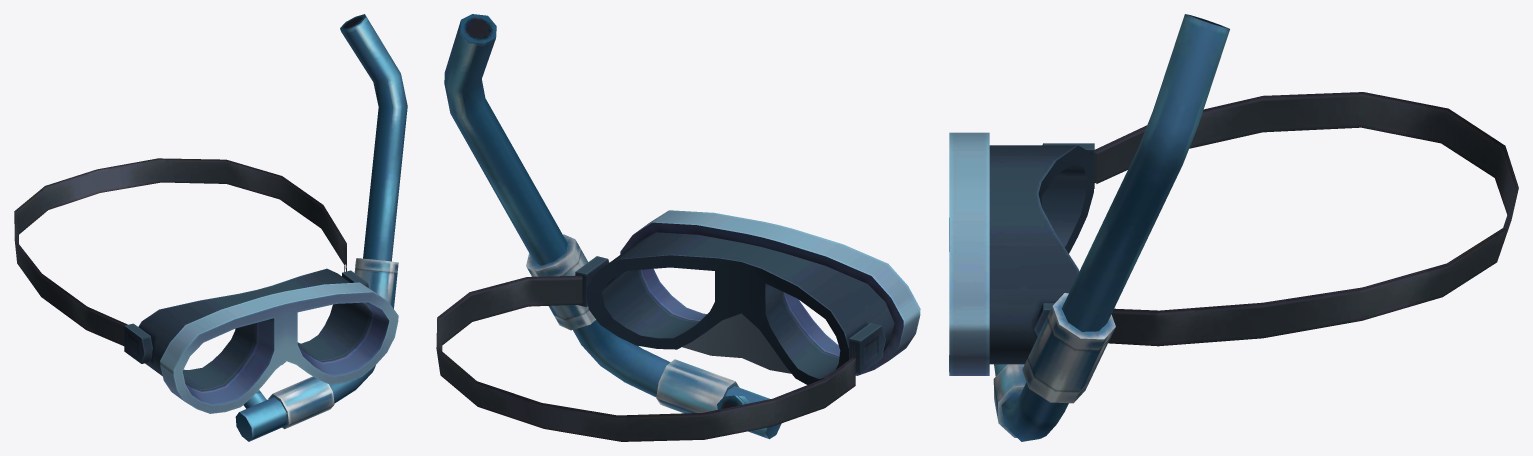
The model's file is helm0137.fbx.
The picture shows the model from 3 angles, left to right: view 1: azimuth 30°, elevation 25°; view 2: azimuth 150°, elevation 25°; view 3: azimuth 270°, elevation 25°; orthographic projection. The views are drawn at different scales.
Visible parts, largest first — view 1: helm0137; view 2: helm0137; view 3: helm0137.
Part boxes in pixels (box(x1,y1,x2,y2)): helm0137: box(14, 14, 407, 441); helm0137: box(436, 14, 920, 441); helm0137: box(949, 14, 1518, 441).
Size of the model in its own units: 0.364 by 0.3517 by 0.3589.
